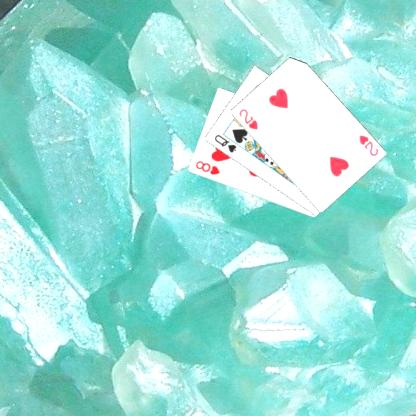2H: (356, 132, 380, 158), (236, 106, 259, 131)
8H: (193, 158, 221, 176)
QS: (212, 132, 238, 154)
